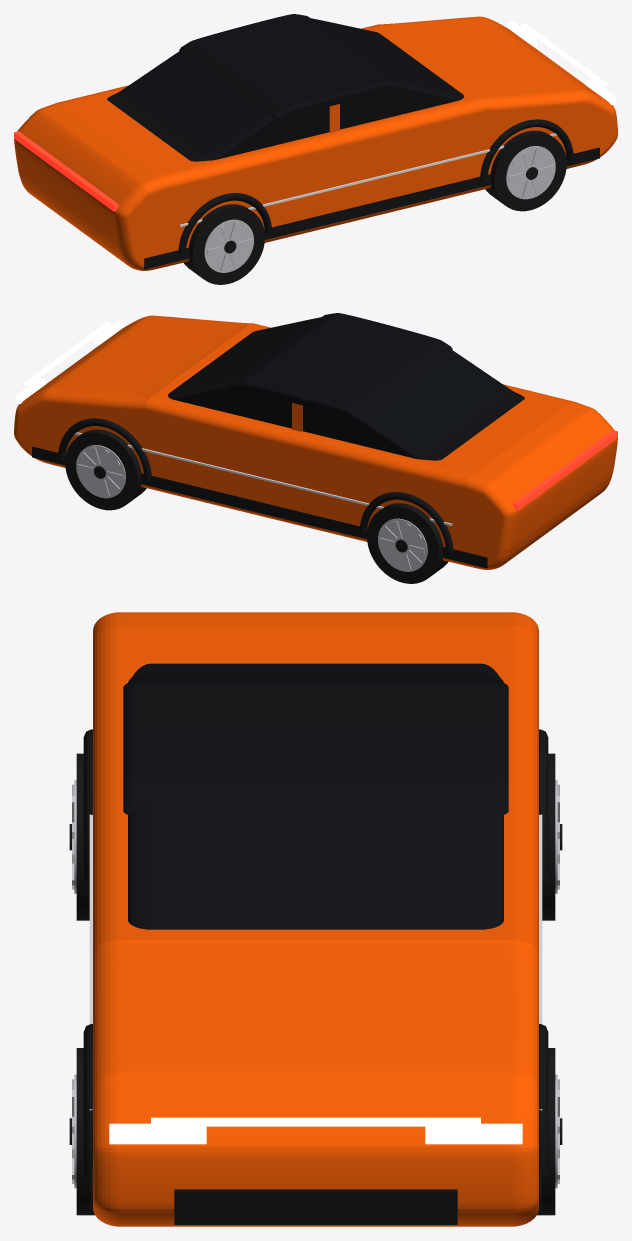
File: car.glb
3 views of the same model, one above another, from view 1: azimuth 30°, elevation 25°; view 2: azimuth 150°, elevation 25°; view 3: azimuth 270°, elevation 25° (orthographic). The views are drawn at different scales.
Visible parts, largest first — view 1: TestLocation_premium; view 2: TestLocation_premium; view 3: TestLocation_premium.
Boxes of the visible parts, bbox=[...] form: TestLocation_premium: bbox=[14, 14, 617, 284]; TestLocation_premium: bbox=[14, 313, 617, 583]; TestLocation_premium: bbox=[69, 612, 562, 1226].
Bounding box in the file's own units: 5.02 × 1.44 × 2.12.
